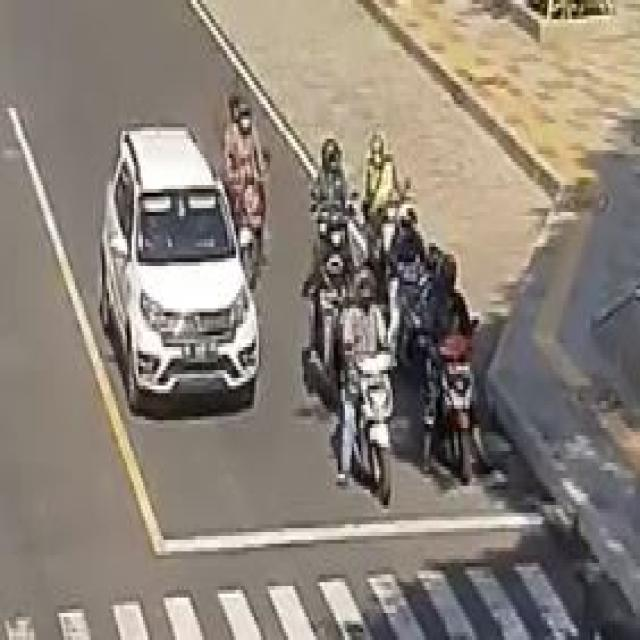car: (95, 116, 272, 439)
motorbike: (430, 270, 478, 488), (348, 278, 390, 505), (227, 86, 283, 224)
